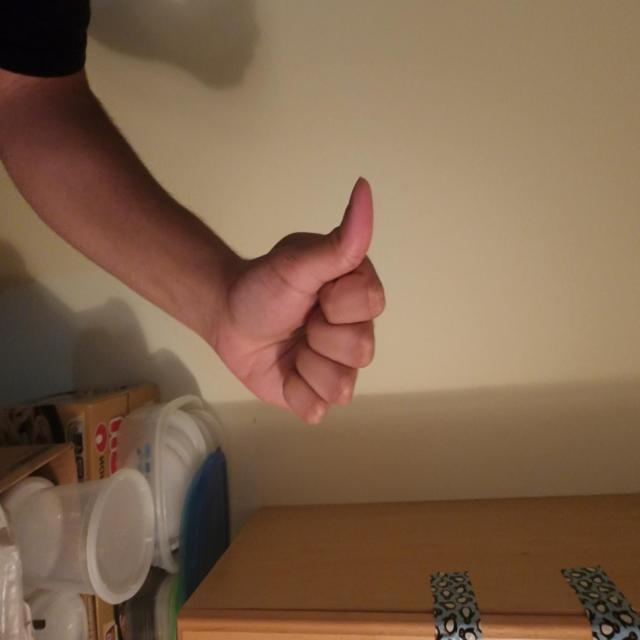A: (290, 334, 483, 568)
